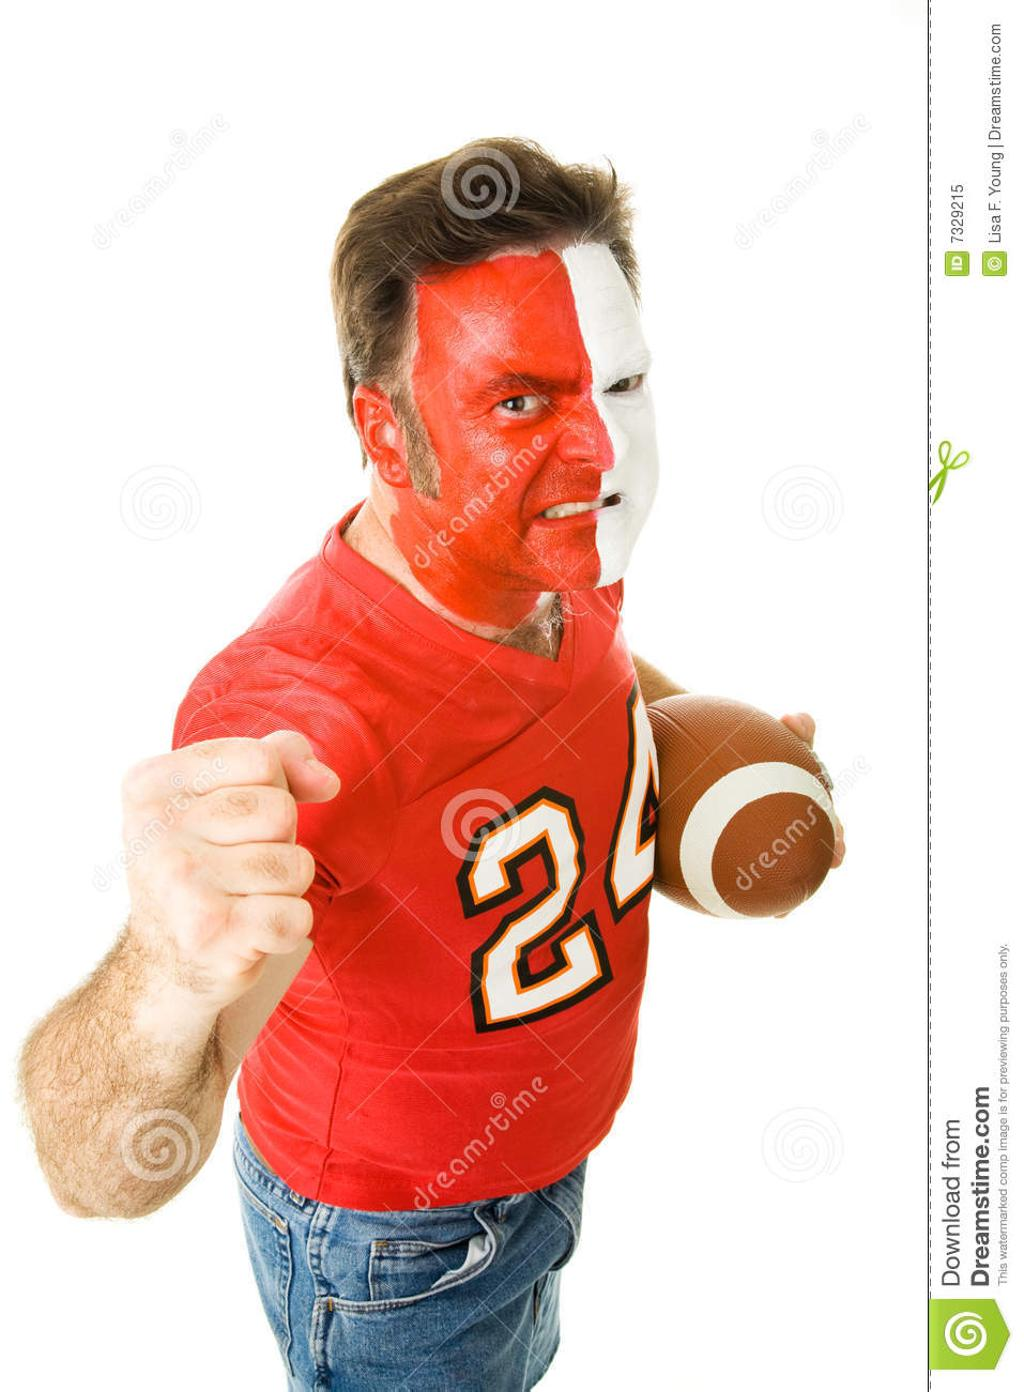face: (418, 269, 654, 584)
